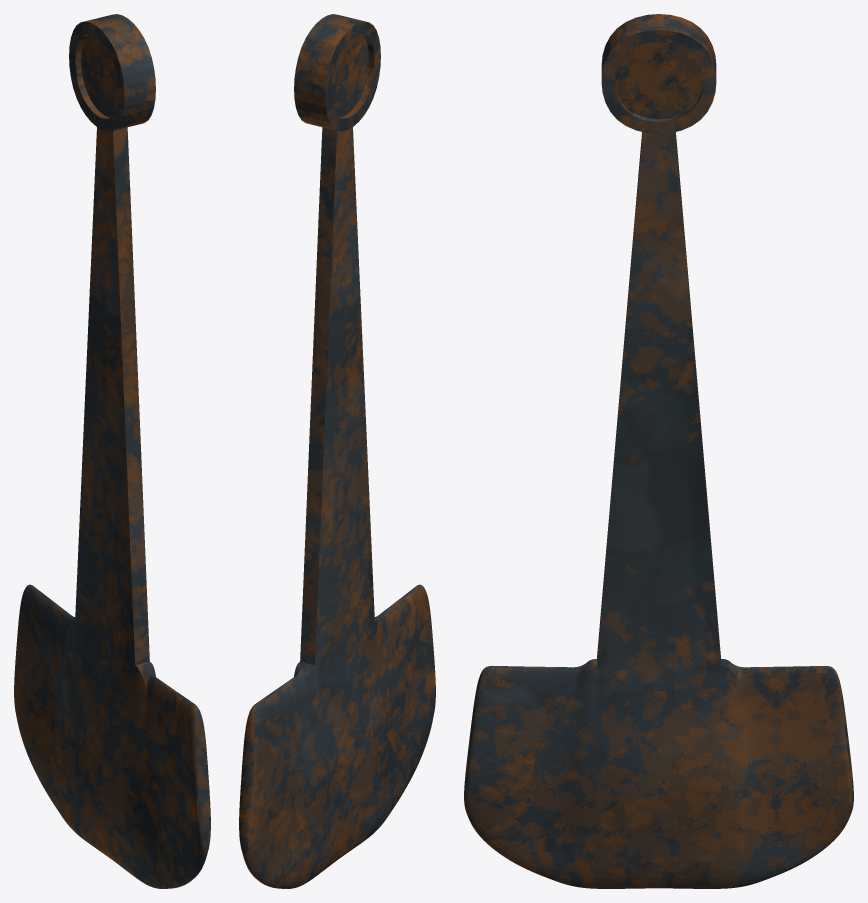
The model's file is PendulumBlade_Prototype.fbx.
3 views of the same model, side by side, from view 1: azimuth 30°, elevation 25°; view 2: azimuth 150°, elevation 25°; view 3: azimuth 270°, elevation 25° (orthographic). The views are drawn at different scales.
Visible parts, largest first — view 1: Pendulum; view 2: Pendulum; view 3: Pendulum.
Boxes of the visible parts, <box> form: Pendulum: <box>14,14,210,888</box>; Pendulum: <box>239,14,435,888</box>; Pendulum: <box>464,14,853,888</box>.
Size of the model in its own units: 11.77 by 293 by 119.
1 material, 1 textured.
